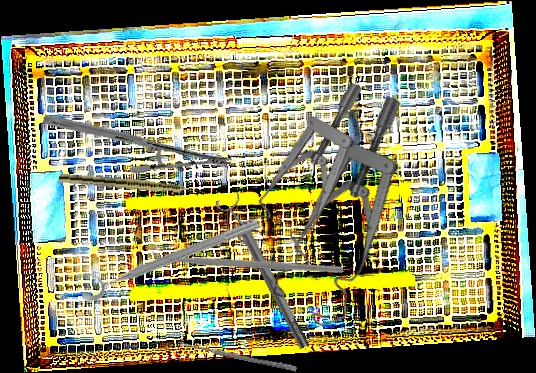Chopper: (148, 169, 344, 347)
Fixation Ring: (74, 204, 263, 305), (213, 189, 317, 355)
Handpiece: (58, 172, 208, 198)
Needle Holder: (41, 68, 234, 213)
Speculum: (228, 91, 483, 343), (203, 78, 424, 285)
Surgical Spoon: (176, 340, 298, 372)
